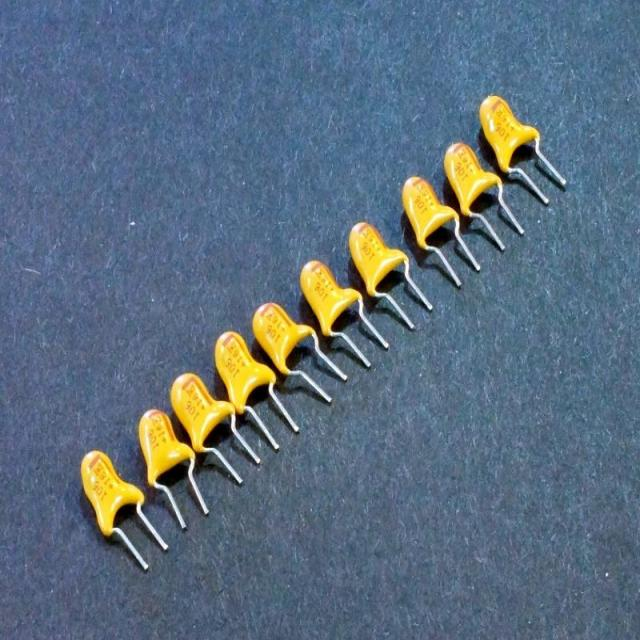capacitor: (82, 451, 170, 571), (171, 372, 261, 486), (214, 331, 298, 449), (300, 260, 390, 367), (481, 95, 568, 204), (254, 302, 346, 402), (350, 222, 432, 331), (402, 176, 482, 287), (444, 143, 523, 251), (140, 409, 210, 530)
